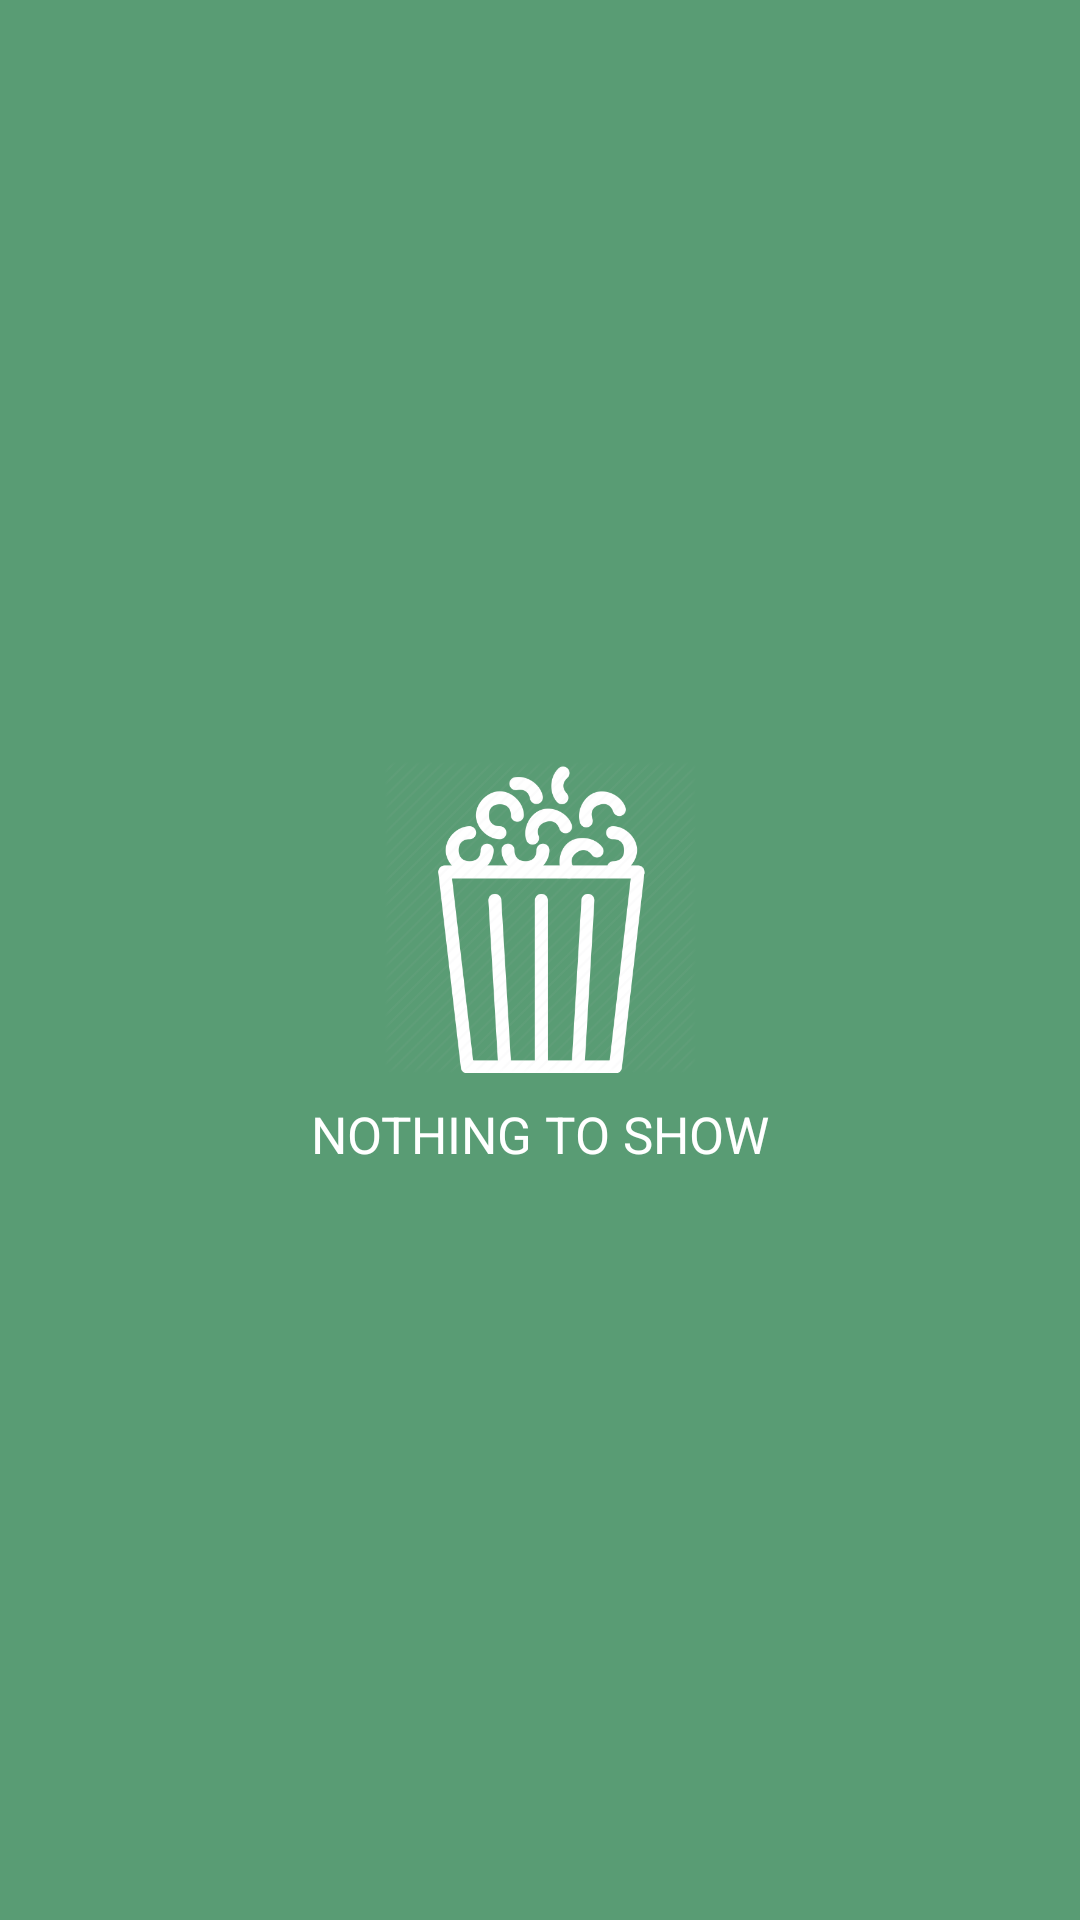

Locate icon controls on the screen. Image size 1080 x 1920, boxes as (x1, y1, x2, y2).
popcorn: (438, 766, 645, 1073)
